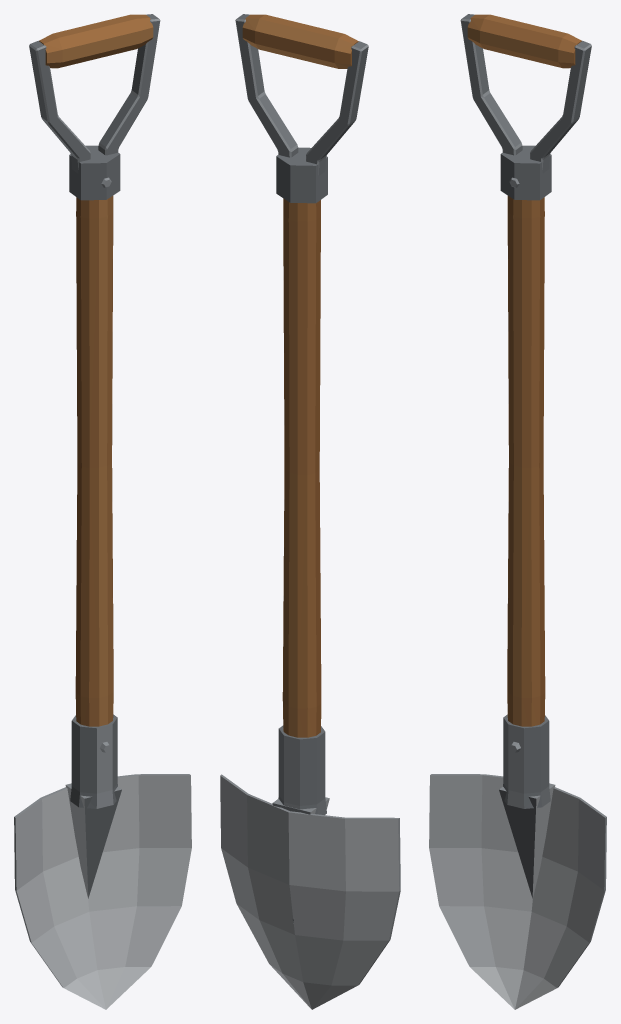
The model's file is Mining Shovel.glb.
3 views of the same model, side by side, from view 1: azimuth 30°, elevation 25°; view 2: azimuth 150°, elevation 25°; view 3: azimuth 330°, elevation 25° (orthographic).
Visible parts, largest first — view 1: Mining Shovel.Static; view 2: Mining Shovel.Static; view 3: Mining Shovel.Static.
Boxes of the visible parts, left/top/right/bottom form: Mining Shovel.Static: left=14, top=14, right=191, bottom=1009; Mining Shovel.Static: left=220, top=14, right=400, bottom=1009; Mining Shovel.Static: left=429, top=14, right=606, bottom=1009.
Size of the model in its own units: 0.224 by 1.19 by 0.058.
